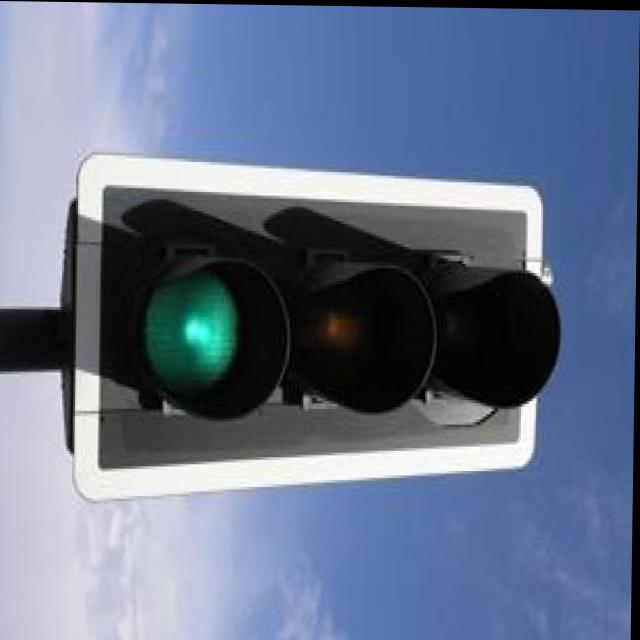green light: (109, 205, 566, 443)
